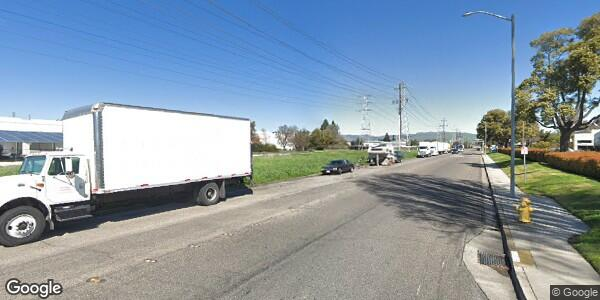Steel_Pole: (460, 9, 517, 198)
Wood_Pole: (391, 80, 410, 148), (438, 118, 449, 141)
